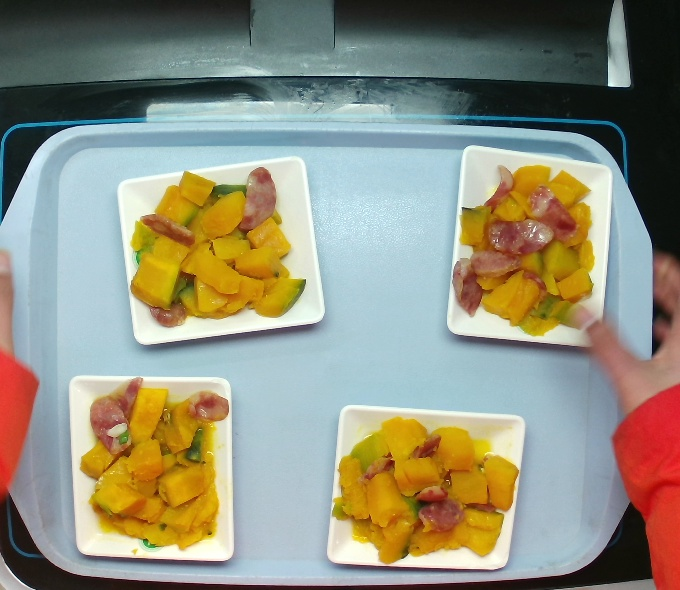wcq-NanGuaChaoXiangChang: (124, 164, 306, 331), (331, 415, 519, 570), (77, 383, 224, 559), (458, 161, 602, 339)
